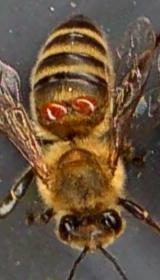varroa_mite: (40, 89, 72, 125), (66, 90, 100, 116)
